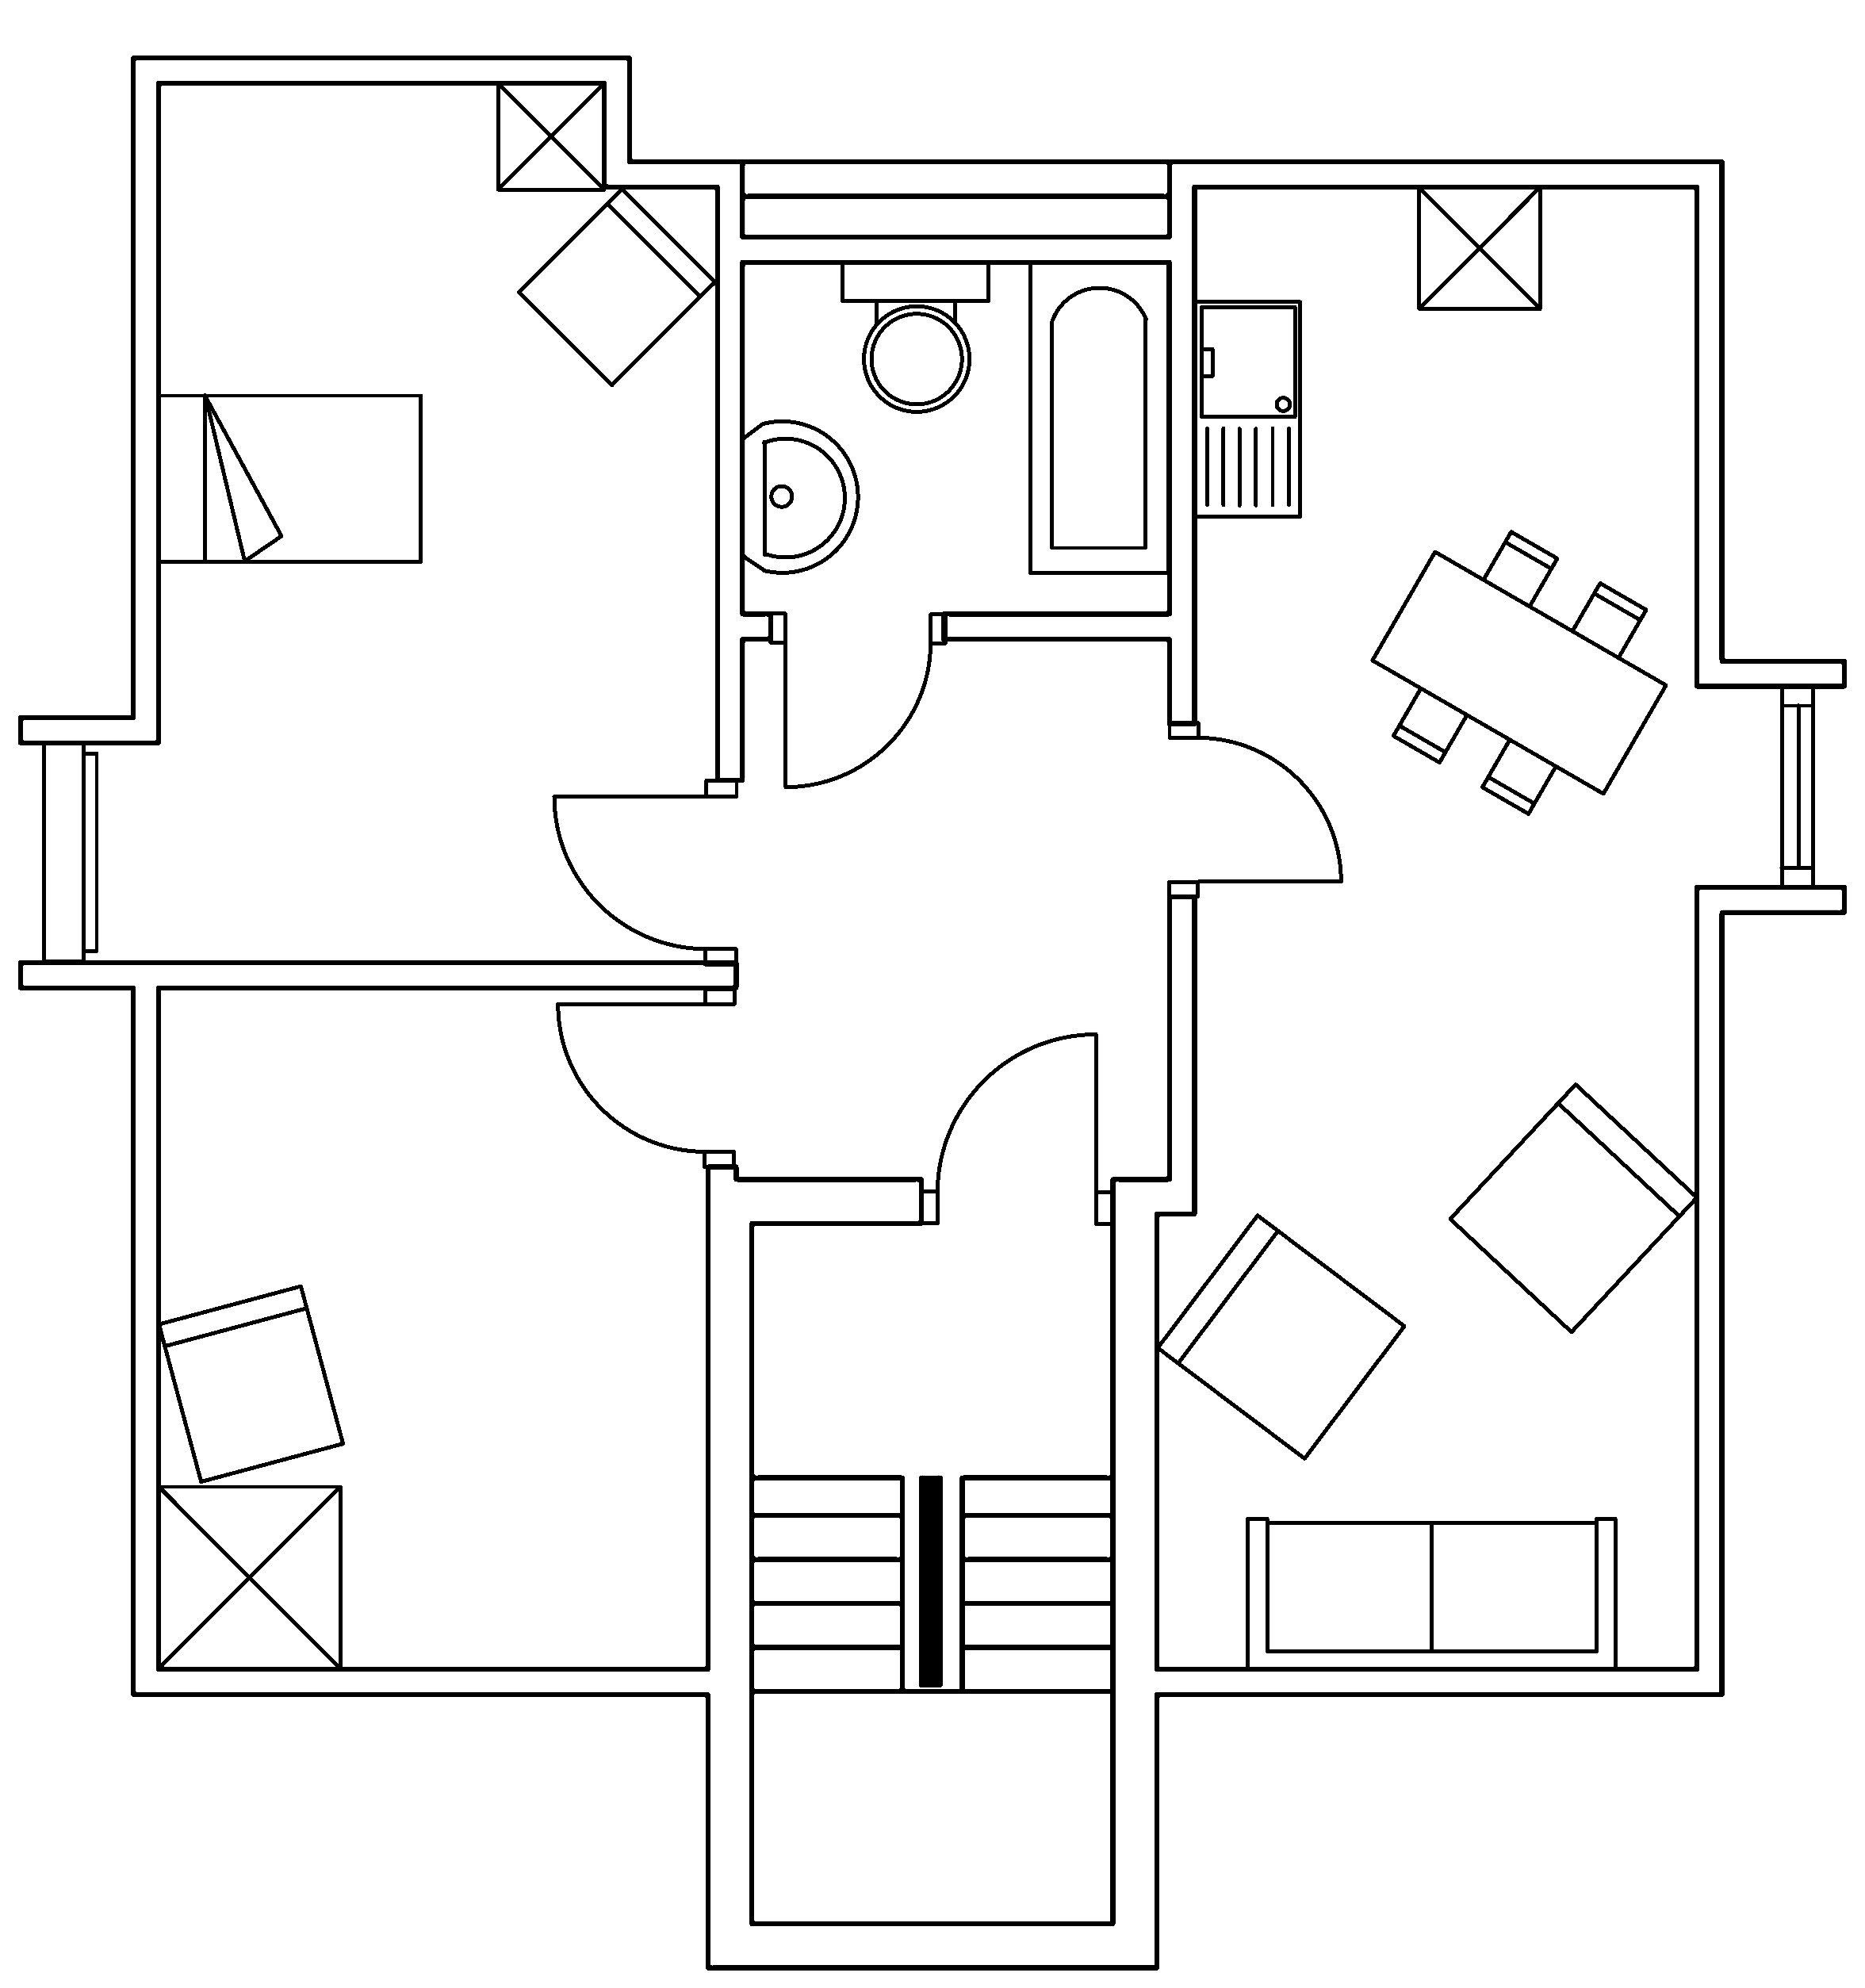bed: (154, 391, 424, 564)
coffee_table: (154, 1481, 342, 1671), (1416, 182, 1542, 310), (494, 79, 606, 191)
dining_table: (1369, 528, 1669, 815)
large_sink: (840, 258, 990, 412)
large_sofa: (1245, 1515, 1618, 1672)
sink: (1192, 298, 1302, 519)
small_sink: (740, 419, 859, 573)
small_sofa: (1446, 1080, 1698, 1334), (1153, 1211, 1408, 1460), (515, 186, 717, 387), (156, 1282, 345, 1483)
tub: (1027, 258, 1171, 575)
